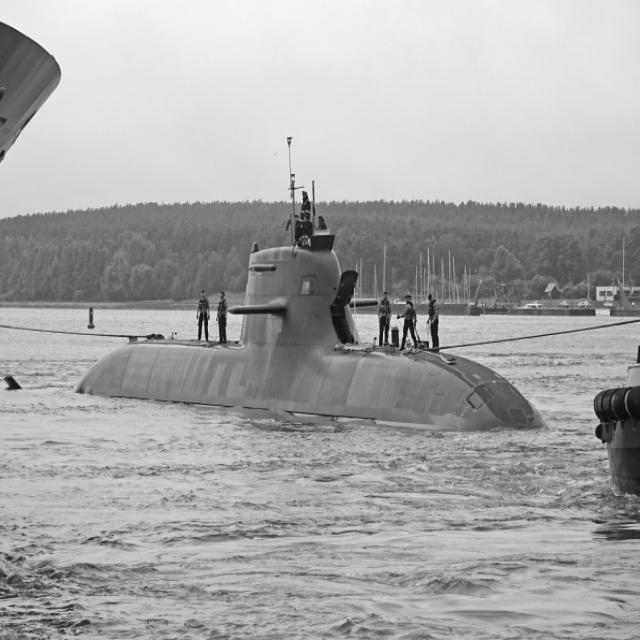submarine: (75, 138, 553, 431)
